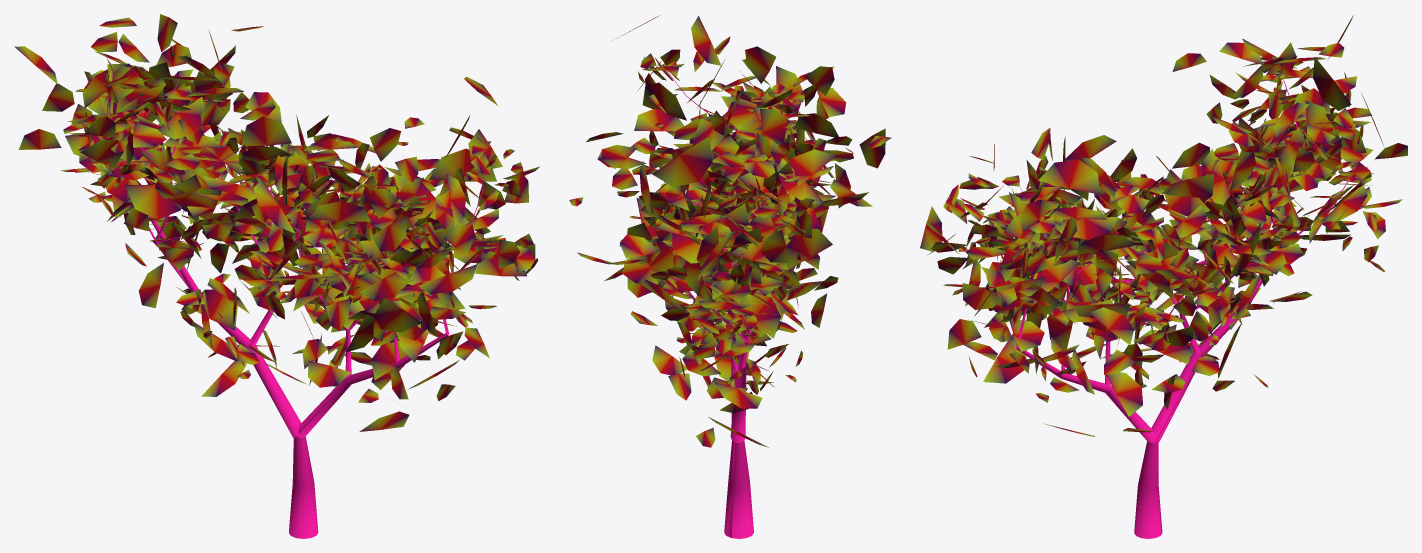
File: arbre_geo.glb
3 renders of one model, left to right at view 1: azimuth 30°, elevation 25°; view 2: azimuth 150°, elevation 25°; view 3: azimuth 270°, elevation 25°, orthographic. The views are drawn at different scales.
Visible parts, largest first — view 1: leaves, batch; view 2: leaves, batch; view 3: leaves, batch.
Part boxes in pixels (left/top/right/bottom): leaves: left=14, top=14, right=539, bottom=431; batch: left=118, top=70, right=486, bottom=538; leaves: left=569, top=15, right=891, bottom=447; batch: left=650, top=70, right=788, bottom=538; leaves: left=920, top=15, right=1407, bottom=436; batch: left=992, top=79, right=1351, bottom=538.
Size of the model in its own units: 15.2 by 18.87 by 18.51.
